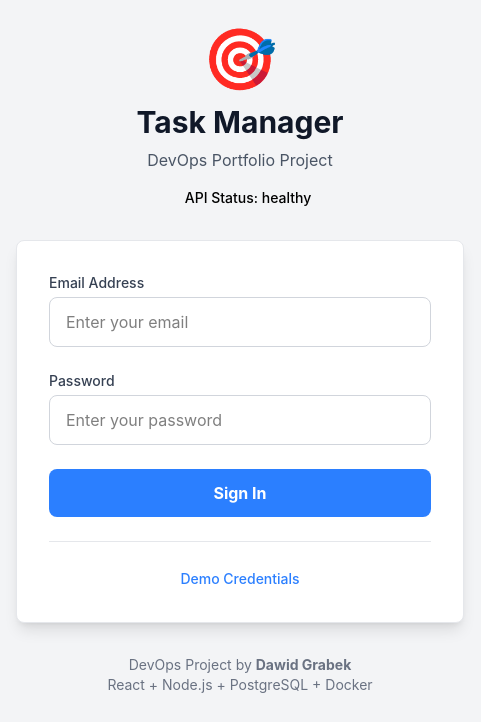
Test case: LoginForm › shows password too short error
Type "test@example.com" into the field labelled "Email Address" at (240, 322), box 49,296 -> 431,346
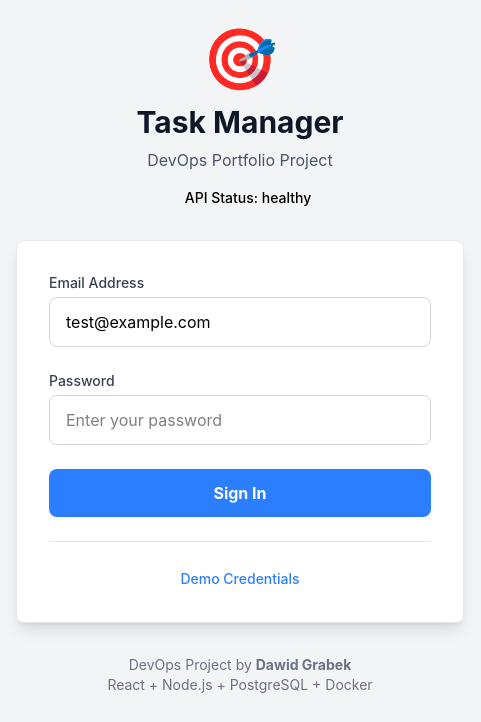
Type "123" into the password field labelled "Password" at (240, 420), box 49,394 -> 431,444
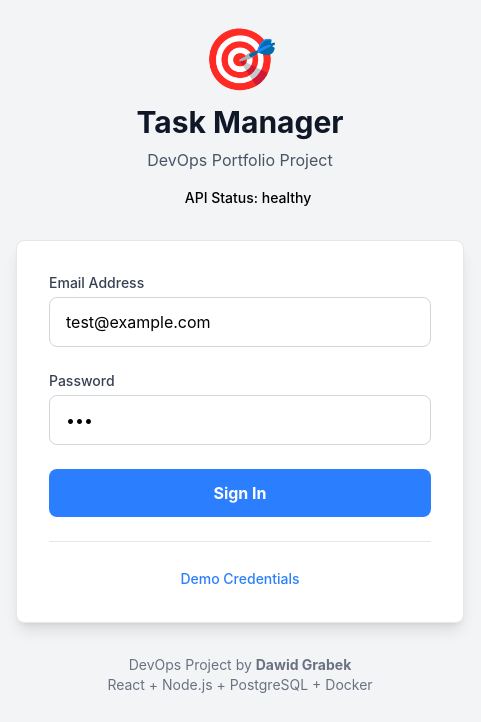
Click the button "Sign In" at (240, 492), box 49,468 -> 431,516
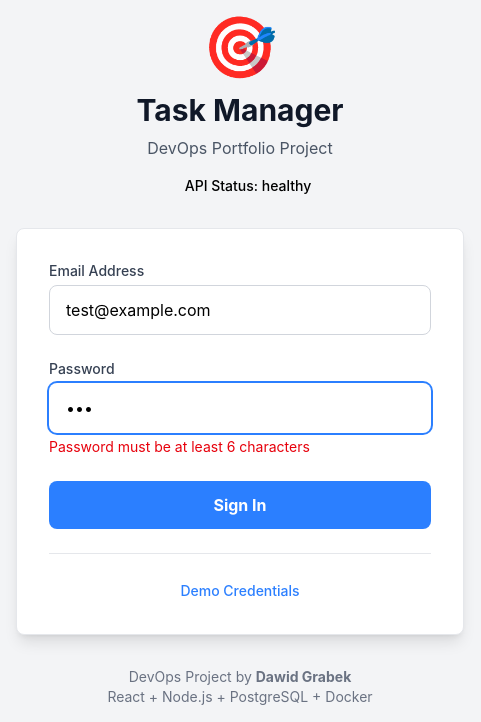
Expected: the text "Password must be at least 6 characters" is shown, 49,438 -> 310,454
